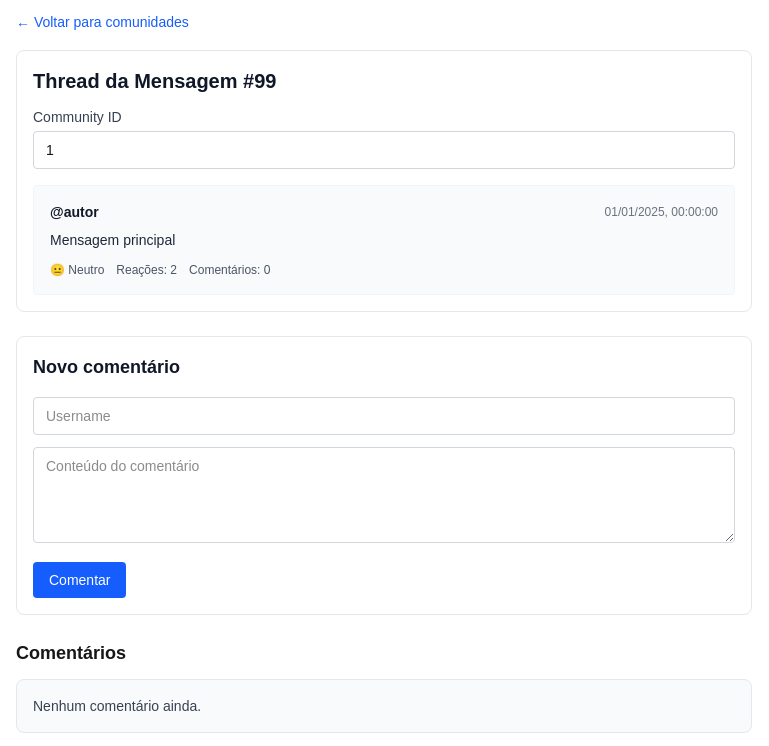
Test: MessageThreadPage › should persist a created comment in localStorage
Expected: the text "Mensagem principal" is shown, [50, 232, 175, 248]
Type "maria" into the field with placeholder "Username" at (384, 416), box [33, 397, 735, 435]
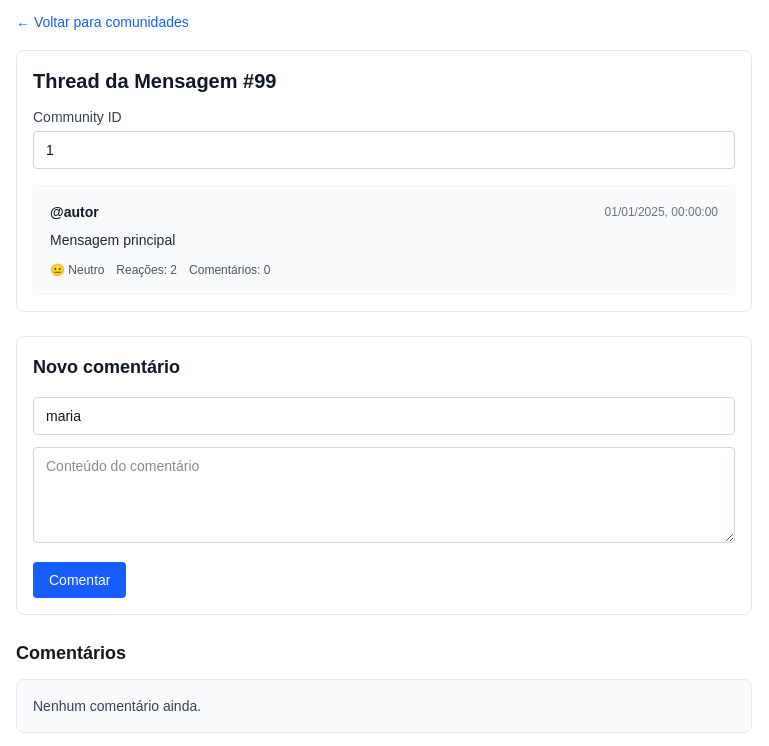
Type "Novo comentário" into the text box with placeholder "Conteúdo do comentário" at (384, 495), box [33, 447, 735, 543]
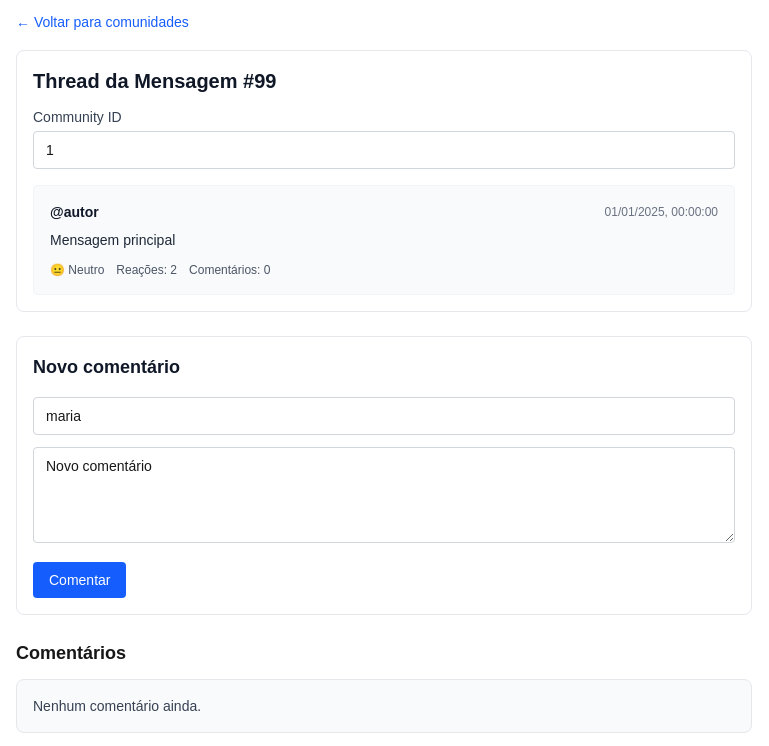
Click the button "Comentar" at (80, 580), box [33, 562, 126, 598]
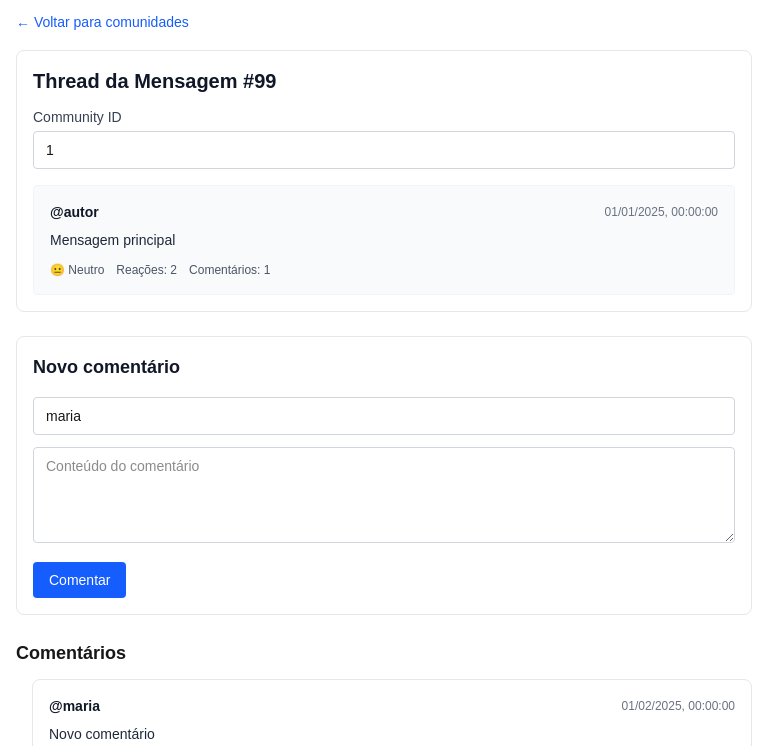
Now the text "Novo comentário" is shown, box [49, 726, 155, 742]
